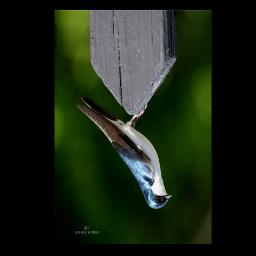Swallow: (76, 95, 172, 209)
